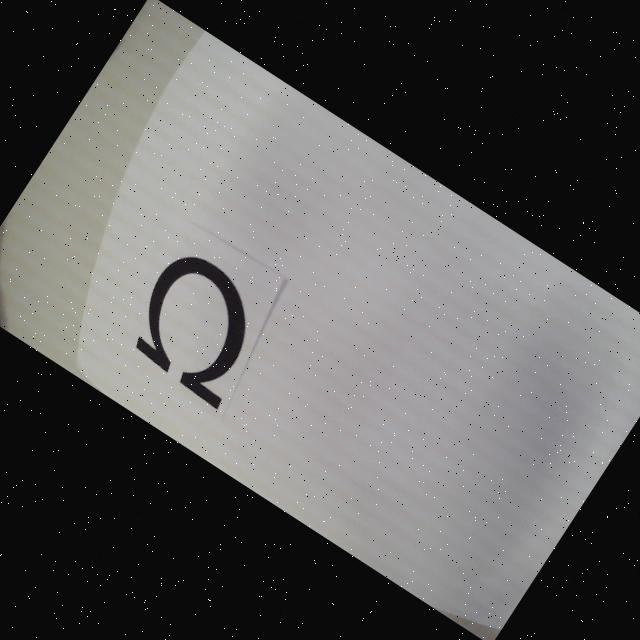OMEGA: (115, 244, 282, 411)
